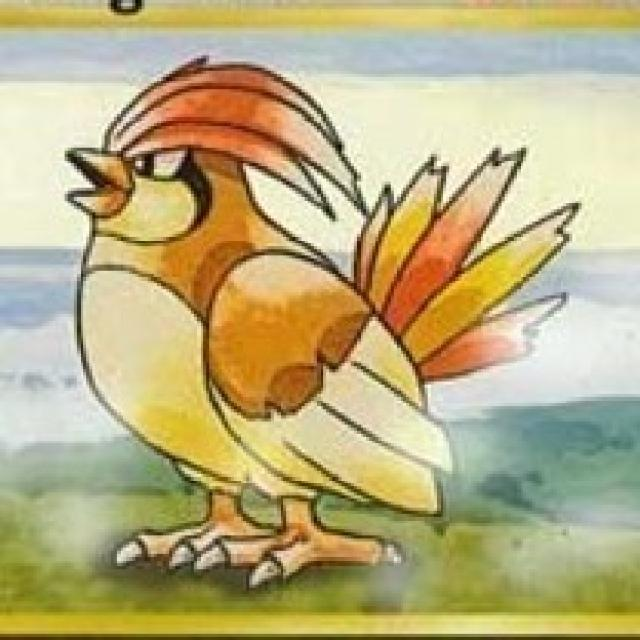Pidgeotto: (64, 55, 546, 586)
